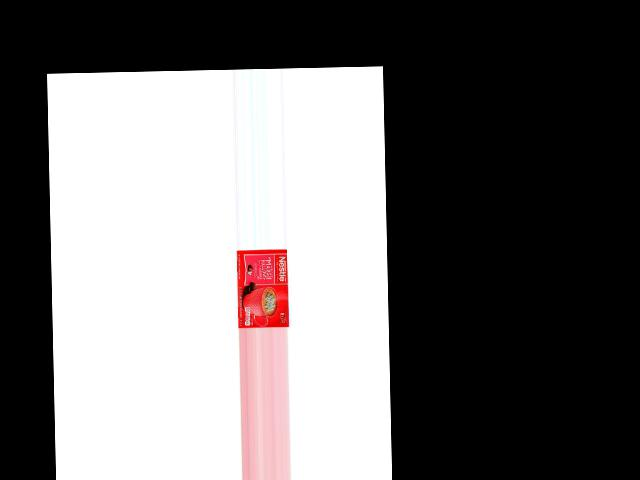chocolate: (233, 251, 287, 328)
